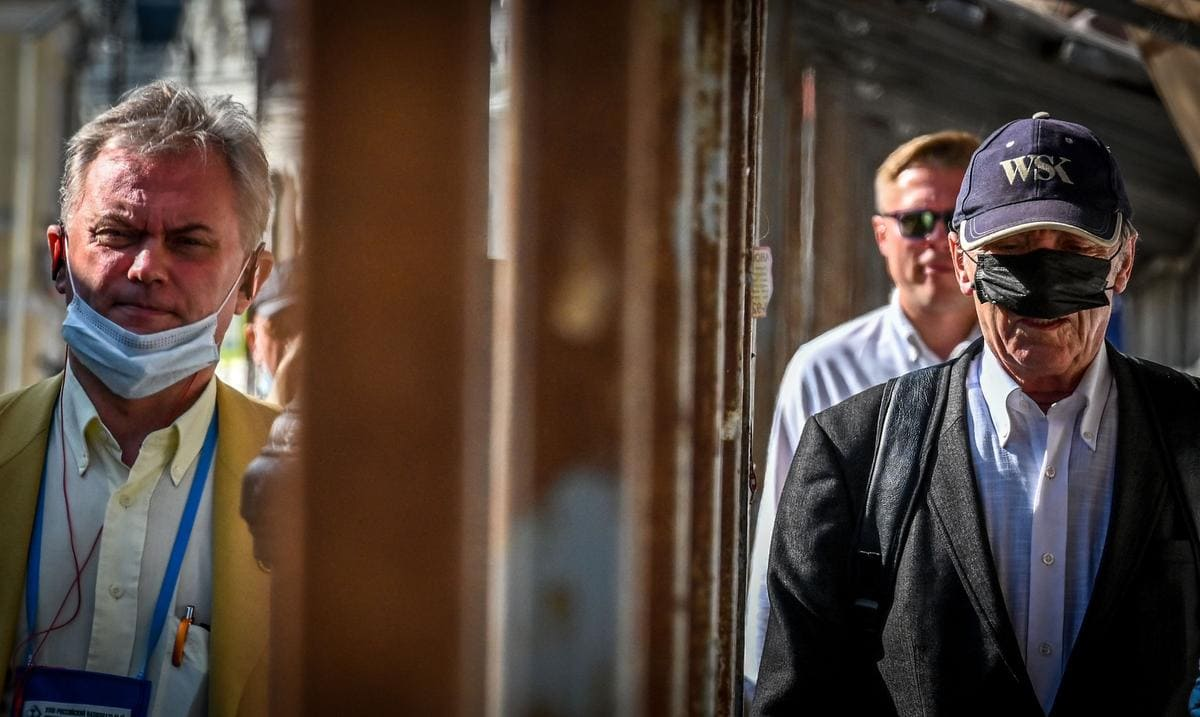mask_weared_incorrect: (74, 179, 219, 399), (978, 235, 1112, 372)
without_mask: (889, 168, 955, 294)
